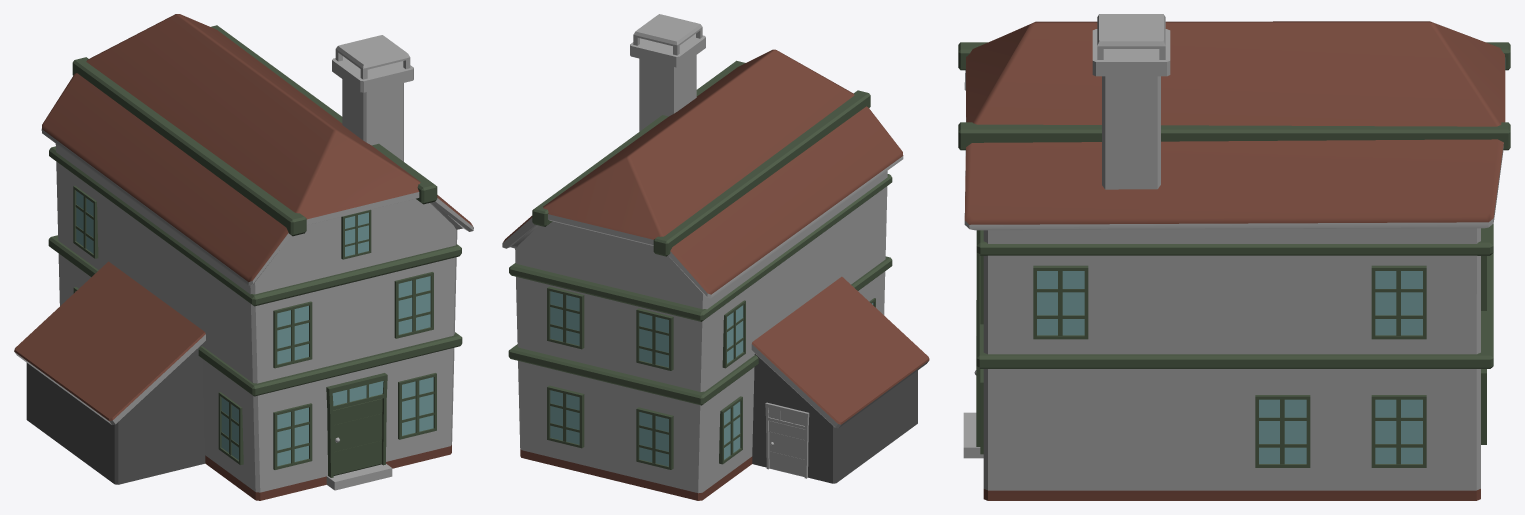
The model's file is Bg house.fbx.
3 renders of one model, left to right at view 1: azimuth 30°, elevation 25°; view 2: azimuth 150°, elevation 25°; view 3: azimuth 270°, elevation 25°, orthographic. The views are drawn at different scales.
Parts seen in each view (by area): view 1: Bg_house; view 2: Bg_house; view 3: Bg_house.
Boxes of the visible parts, <box> form: Bg_house: <box>14,14,473,500</box>; Bg_house: <box>502,14,929,500</box>; Bg_house: <box>958,14,1510,500</box>.
Bounding box in the file's own units: 62.37 × 70.65 × 76.88.
